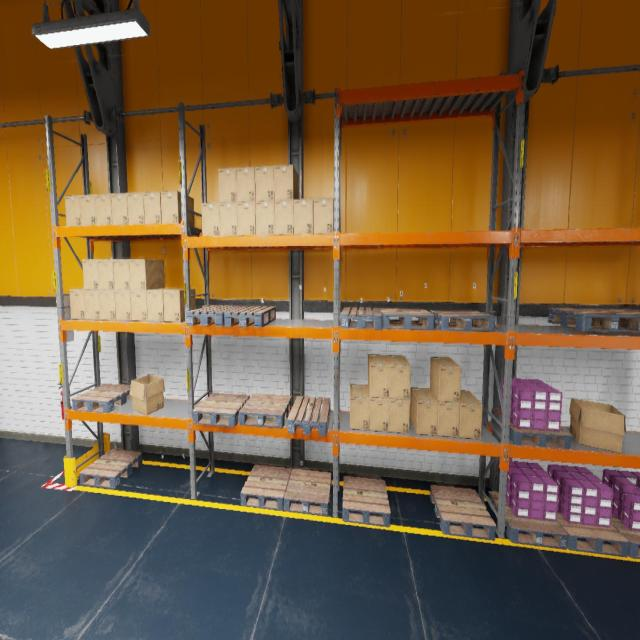box: (569, 398, 626, 454), (130, 374, 166, 415), (430, 388, 460, 437), (430, 357, 461, 402), (410, 388, 438, 436), (161, 191, 194, 227), (459, 390, 482, 439), (163, 288, 196, 322), (386, 355, 411, 399), (129, 259, 164, 290), (146, 289, 177, 321), (368, 354, 390, 398), (274, 164, 299, 200), (350, 384, 369, 430), (389, 399, 410, 433), (370, 397, 390, 432), (314, 198, 334, 233), (255, 165, 274, 201), (237, 166, 256, 202), (274, 200, 294, 234), (294, 199, 313, 234), (218, 168, 237, 202), (237, 202, 256, 236), (256, 201, 274, 235), (202, 202, 220, 236), (144, 191, 162, 224), (219, 202, 237, 235), (130, 290, 148, 322), (69, 288, 86, 320), (127, 192, 144, 224), (111, 193, 128, 225), (113, 259, 130, 290), (95, 194, 112, 225), (80, 194, 96, 226), (115, 290, 132, 320), (99, 290, 116, 320), (82, 260, 99, 290), (98, 259, 114, 290), (65, 195, 81, 226), (84, 290, 100, 319)
pallets: (488, 491, 568, 549), (430, 485, 496, 540), (491, 408, 572, 449), (557, 511, 629, 557), (342, 476, 391, 527), (80, 449, 142, 488), (548, 308, 640, 333), (241, 465, 291, 510), (284, 469, 331, 516), (192, 393, 250, 427), (239, 393, 291, 428), (72, 384, 132, 413), (288, 396, 330, 436), (611, 514, 640, 559), (430, 311, 495, 331), (380, 308, 435, 330), (186, 306, 242, 326), (224, 306, 276, 327), (341, 307, 382, 329), (602, 308, 640, 328)
